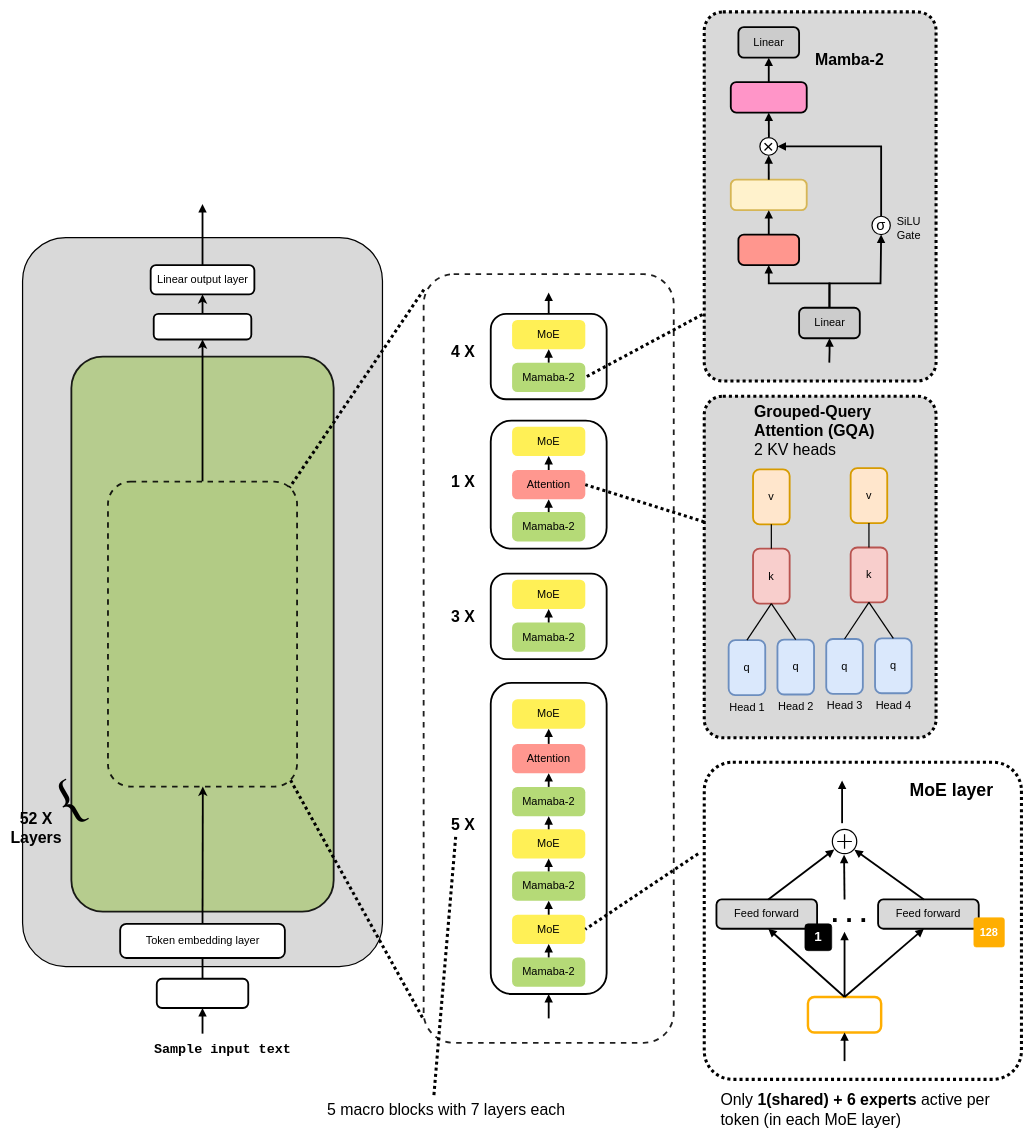
The diagram is 1033 pixels wide and 1139 high, and some of its shapes have lost their labels. The shapes that lost their labels are listed below. From the top down, each one's box as (x1, y1, x2, y2) in pixels, then its label:
(730, 81, 807, 113): RMSNorm
(730, 178, 807, 211): SSM state update
(737, 233, 800, 266): Conv1D
(152, 313, 252, 340): Final RMSNorm
(156, 978, 249, 1009): Tokenized text
(806, 996, 882, 1033): Router
